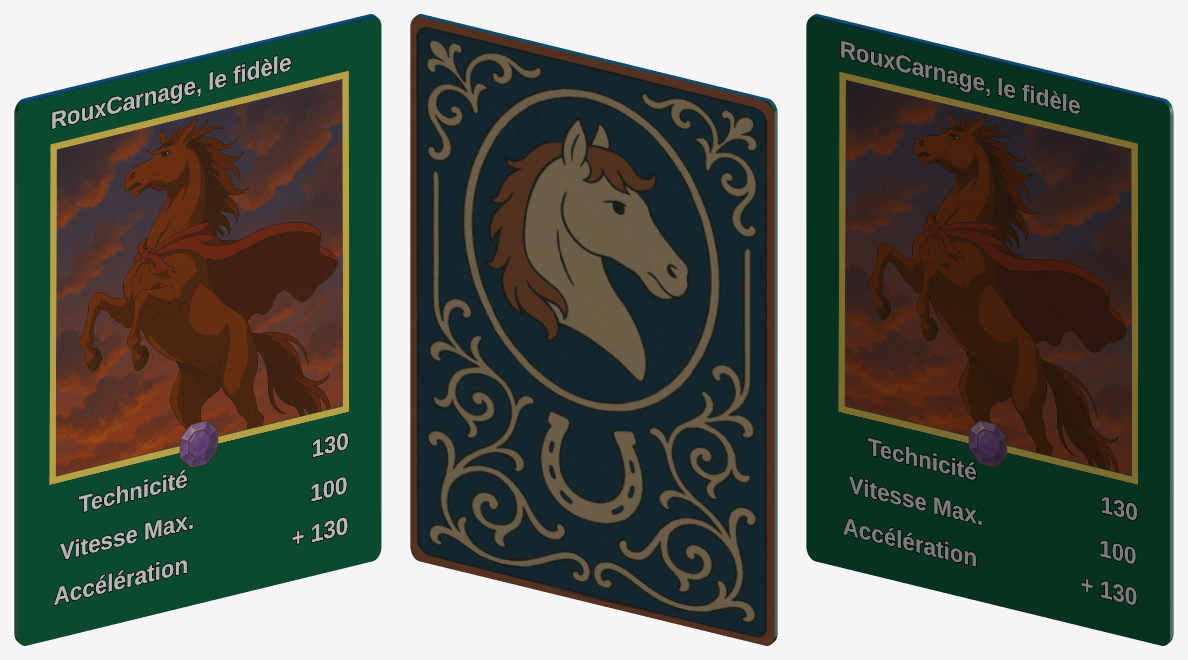
The model's file is Rouxcarnage.glb.
3 renders of one model, left to right at view 1: azimuth 30°, elevation 25°; view 2: azimuth 150°, elevation 25°; view 3: azimuth 330°, elevation 25°, orthographic.
Visible parts, largest first — view 1: Plane; view 2: Plane; view 3: Plane.
Boxes of the visible parts, bbox=[...] form: Plane: bbox=[14, 14, 381, 645]; Plane: bbox=[410, 14, 777, 645]; Plane: bbox=[806, 14, 1173, 645].
Size of the model in its own units: 3.5 by 5 by 0.05.
2 materials, 2 textured.
